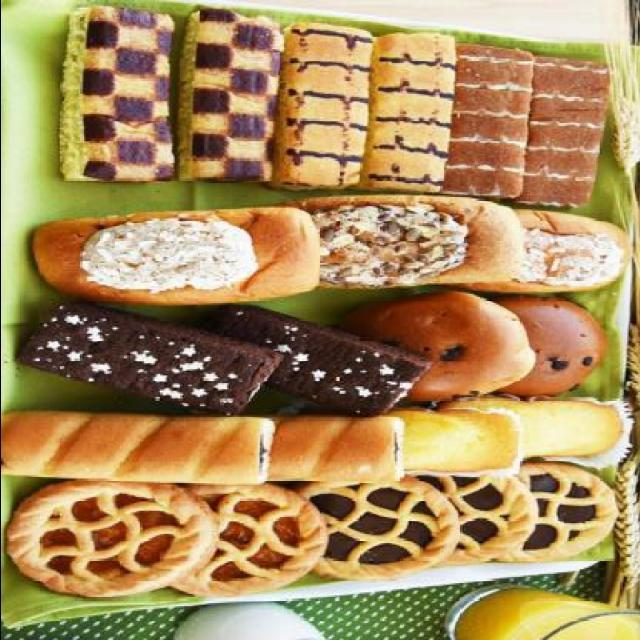Merendine packaged: (22, 199, 320, 310), (14, 311, 274, 409), (283, 194, 529, 292), (330, 290, 536, 406), (9, 486, 217, 600), (56, 7, 175, 188), (157, 483, 326, 606), (262, 24, 373, 196), (346, 29, 457, 196), (294, 476, 456, 587), (178, 12, 280, 188), (443, 292, 609, 399), (1, 416, 270, 482), (372, 467, 536, 570), (509, 56, 618, 208), (468, 460, 612, 571), (433, 394, 629, 474), (448, 210, 630, 292), (443, 45, 534, 197)
